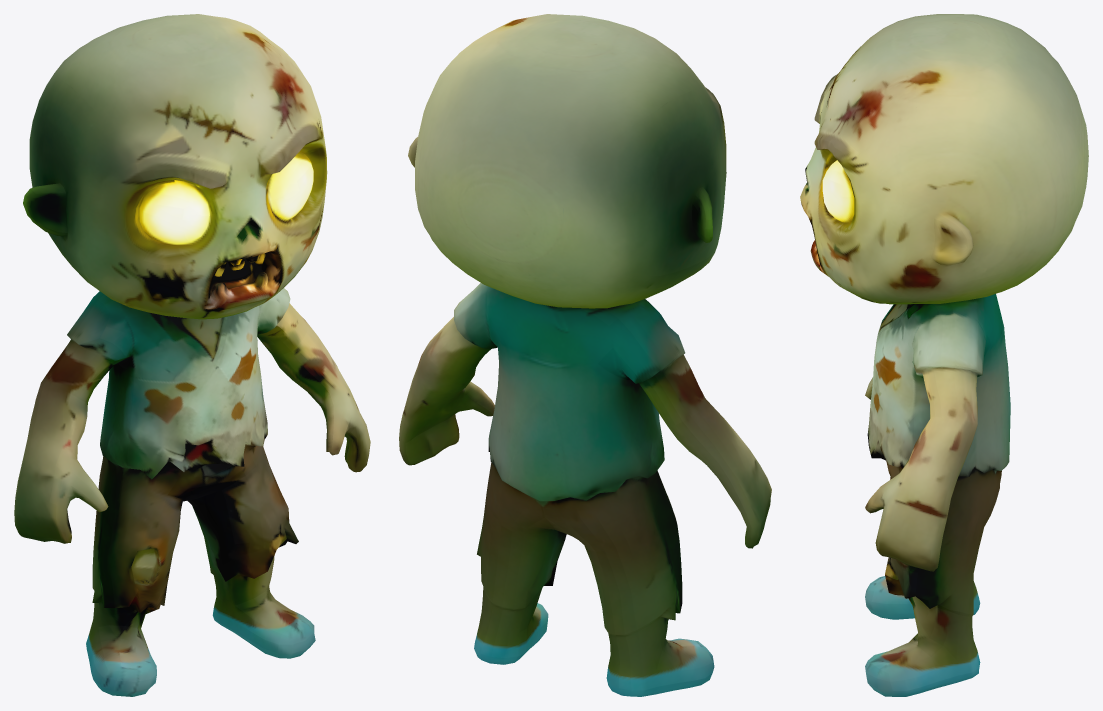
The model's file is base_basic_shaded.fbx.
3 views of the same model, side by side, from view 1: azimuth 30°, elevation 25°; view 2: azimuth 150°, elevation 25°; view 3: azimuth 270°, elevation 25° (orthographic). The views are drawn at different scales.
Parts seen in each view (by area): view 1: model; view 2: model; view 3: model.
Part boxes in pixels (x1,y1,x2,y2): model: (14, 14, 370, 696); model: (399, 14, 771, 696); model: (800, 14, 1088, 696).
Size of the model in its own units: 111 by 190 by 80.58.
